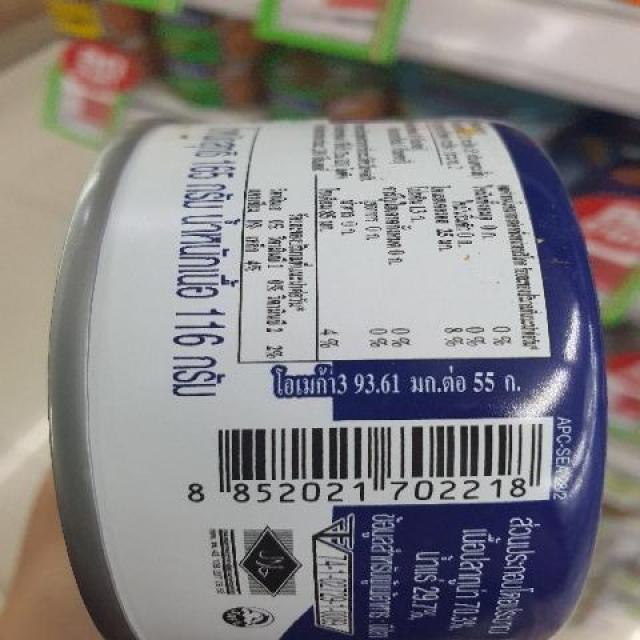Barcode: (172, 419, 552, 504)
